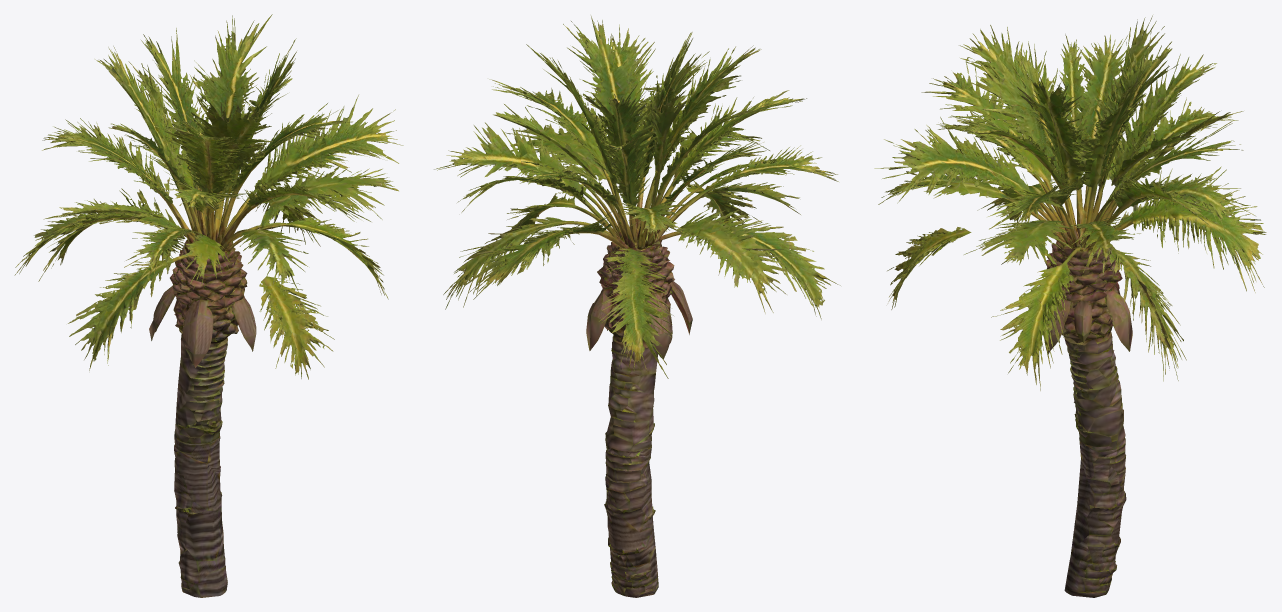
File: palm.glb
The picture shows the model from 3 angles, left to right: view 1: azimuth 30°, elevation 25°; view 2: azimuth 150°, elevation 25°; view 3: azimuth 270°, elevation 25°; orthographic projection.
Visible parts, largest first — view 1: output_unwrapped; view 2: output_unwrapped; view 3: output_unwrapped.
Boxes of the visible parts, left/top/right/bottom form: output_unwrapped: left=14, top=14, right=403, bottom=597; output_unwrapped: left=434, top=16, right=840, bottom=597; output_unwrapped: left=874, top=15, right=1266, bottom=597.
Size of the model in its own units: 0.6605 by 0.9976 by 0.6548.
Materials: 1 (1 with a texture image).
